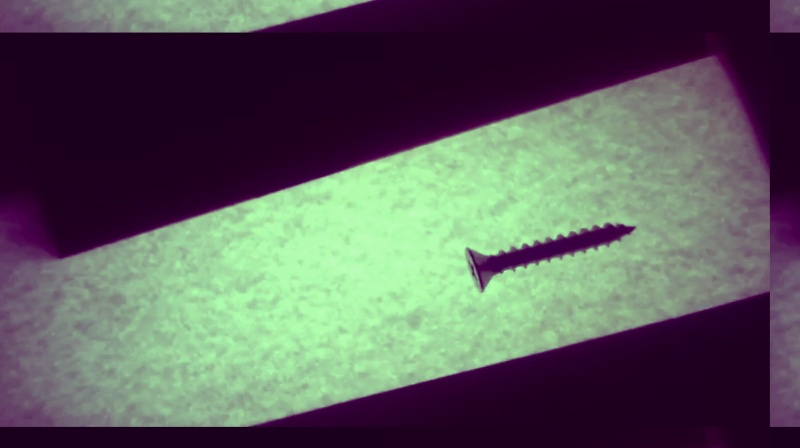S001: (460, 220, 642, 296)
